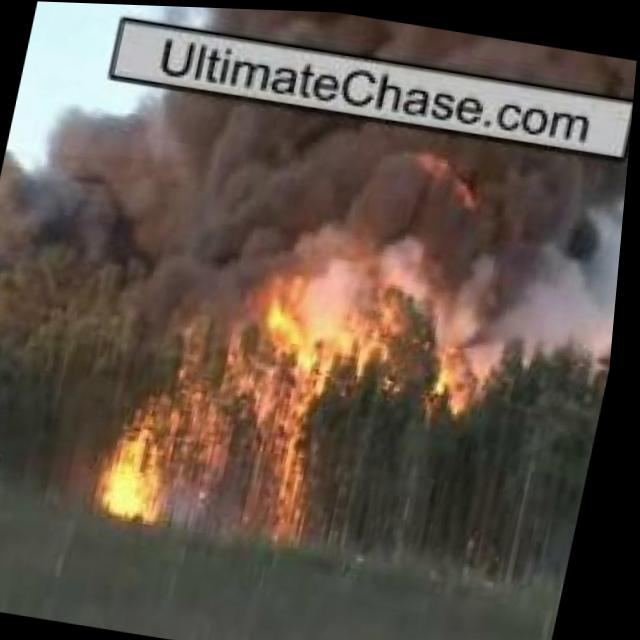Fire: (227, 283, 365, 550), (94, 396, 197, 532), (416, 285, 509, 401), (0, 445, 1, 491)
